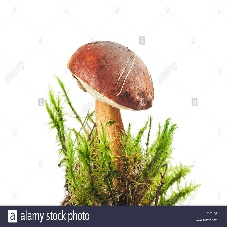mushroom: (68, 37, 156, 200)
